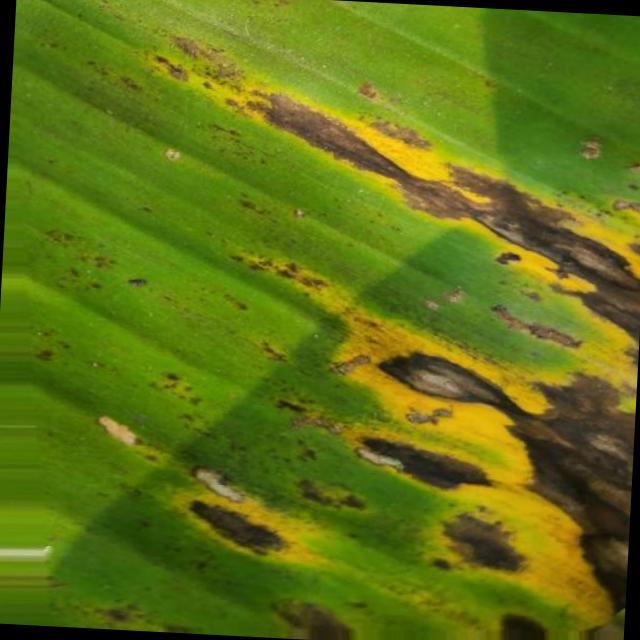Banana_Black_Sigatoka: (190, 53, 640, 640)
